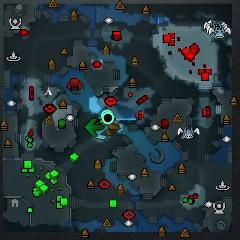p2Clone: (102, 112, 114, 124)
x3: (94, 125, 108, 140)
x4: (85, 118, 104, 137)
x5: (102, 122, 120, 136)
